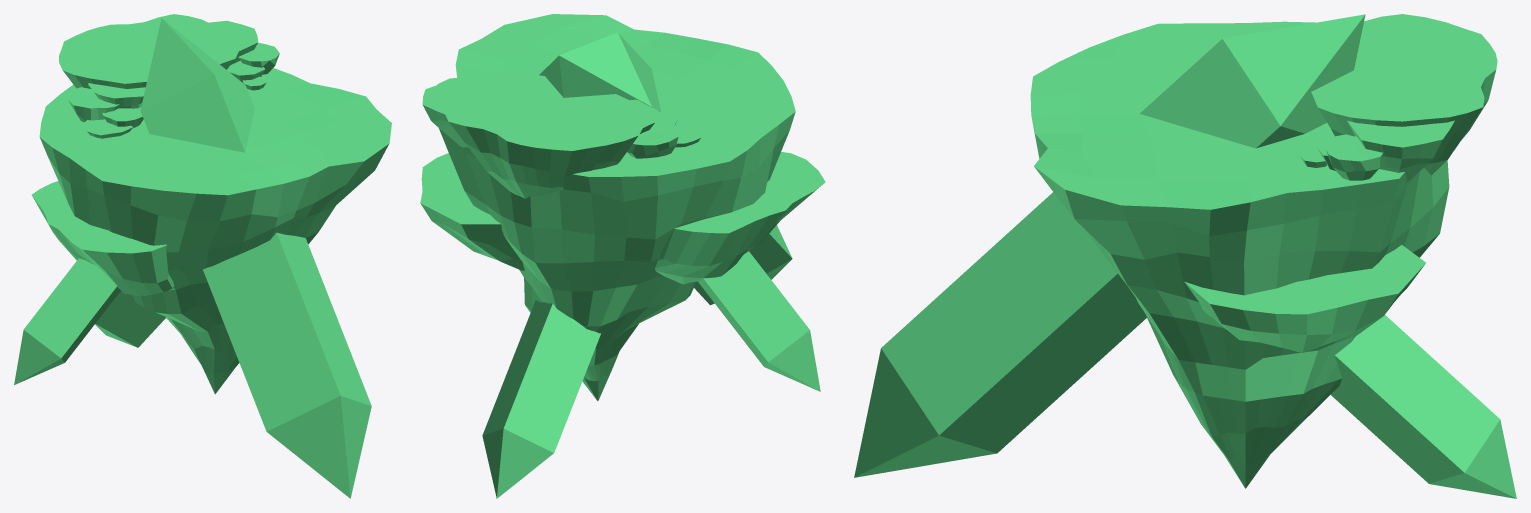
The model's file is island1_modeling_test.fbx.
The picture shows the model from 3 angles, left to right: view 1: azimuth 30°, elevation 25°; view 2: azimuth 150°, elevation 25°; view 3: azimuth 270°, elevation 25°; orthographic projection. The views are drawn at different scales.
Visible parts, largest first — view 1: crystal1; view 2: crystal1; view 3: crystal1.
Part boxes in pixels (<box>): crystal1: <box>14,14,391,498</box>; crystal1: <box>420,14,825,498</box>; crystal1: <box>854,14,1516,498</box>.
Size of the model in its own units: 6496 by 6558 by 8128.
